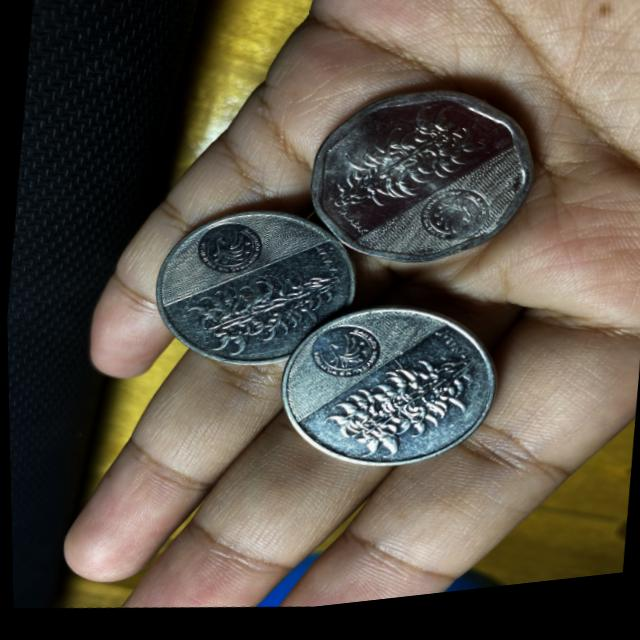5_New_Back: (307, 355, 461, 474), (324, 107, 470, 227), (190, 268, 336, 366)
